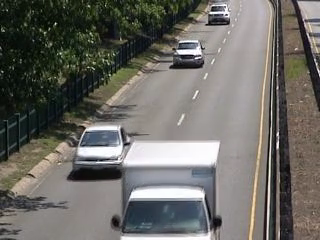car: (69, 124, 137, 181), (169, 37, 208, 69), (205, 2, 234, 26)
truck: (117, 138, 229, 240)
